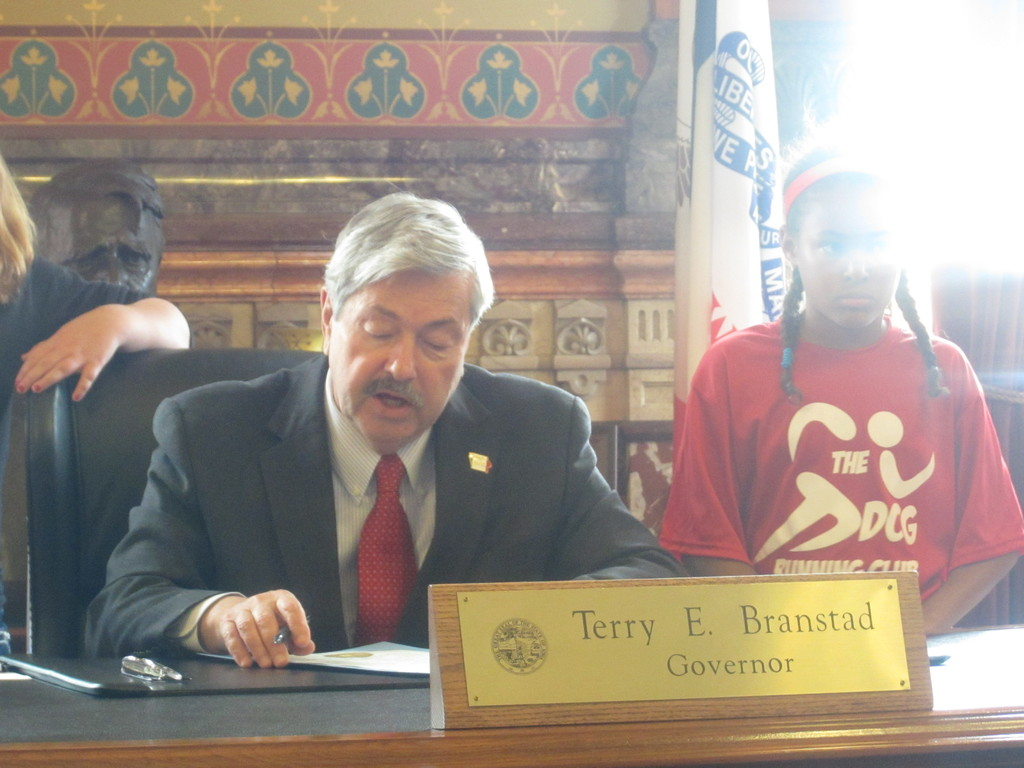Human-face: (330, 273, 472, 451), (792, 183, 900, 327), (44, 168, 166, 291)
